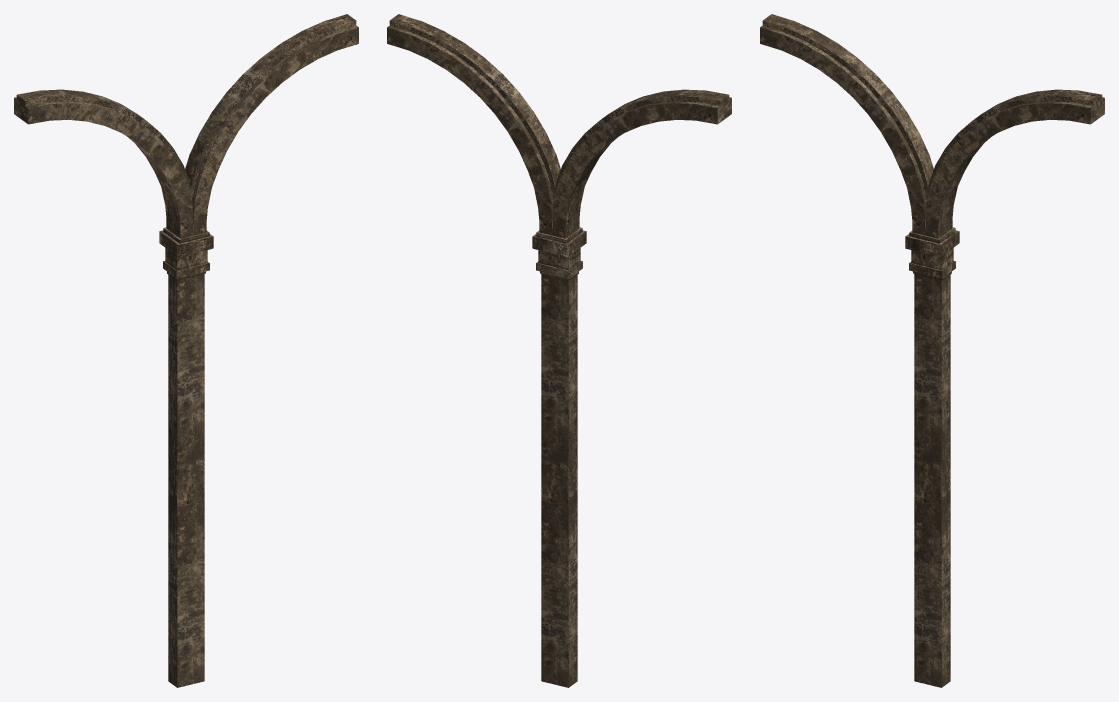
Rendered from materials_5_arch_17.fbx.
3 renders of one model, left to right at view 1: azimuth 30°, elevation 25°; view 2: azimuth 150°, elevation 25°; view 3: azimuth 330°, elevation 25°, orthographic.
Visible parts, largest first — view 1: materials_5_arch_17; view 2: materials_5_arch_17; view 3: materials_5_arch_17.
Boxes of the visible parts, x1,y1,x2,y2 form: materials_5_arch_17: (14, 14, 358, 687); materials_5_arch_17: (387, 14, 731, 687); materials_5_arch_17: (760, 14, 1104, 687).
Bounding box in the file's own units: 165 × 298 × 16.38.
